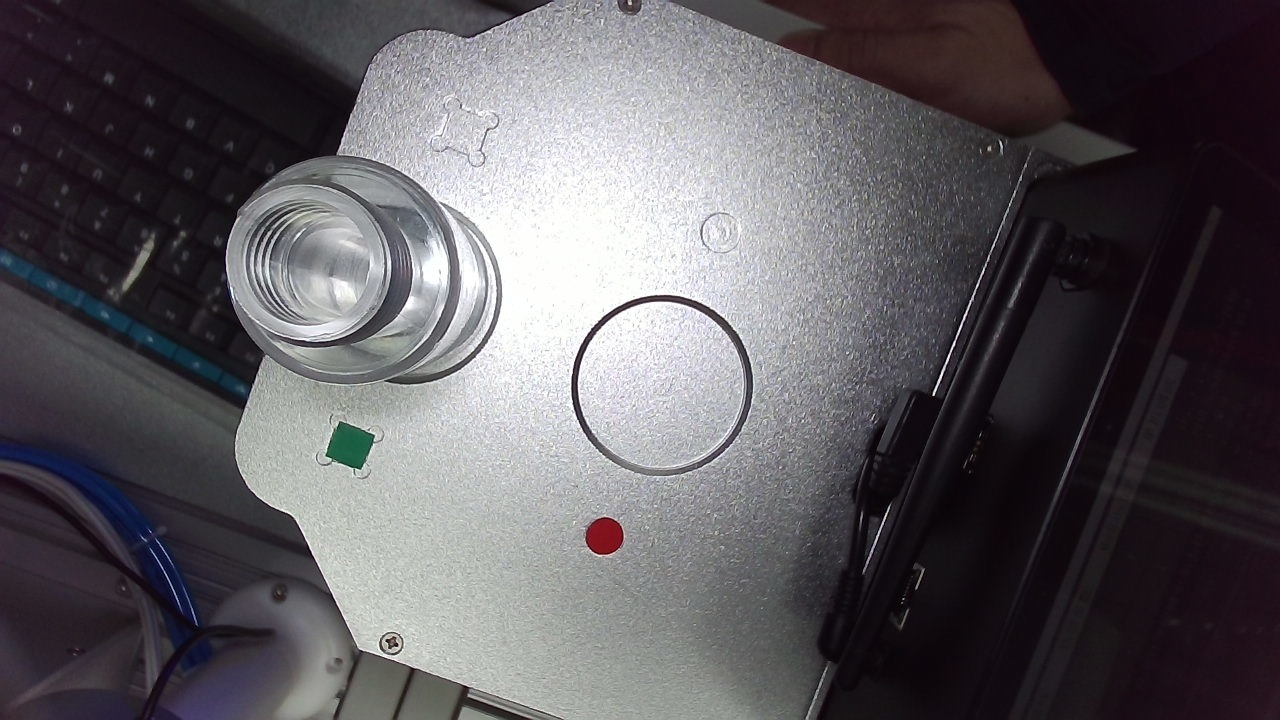XLabel: (432, 70, 499, 136)
YLabel: (865, 82, 933, 154)
none: (733, 208, 1072, 545), (283, 203, 617, 535)
